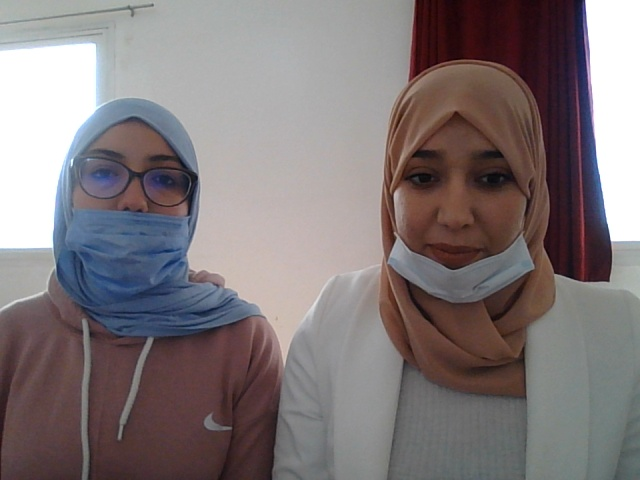mask_weared_incorrect: (381, 65, 567, 338), (59, 109, 176, 289)
